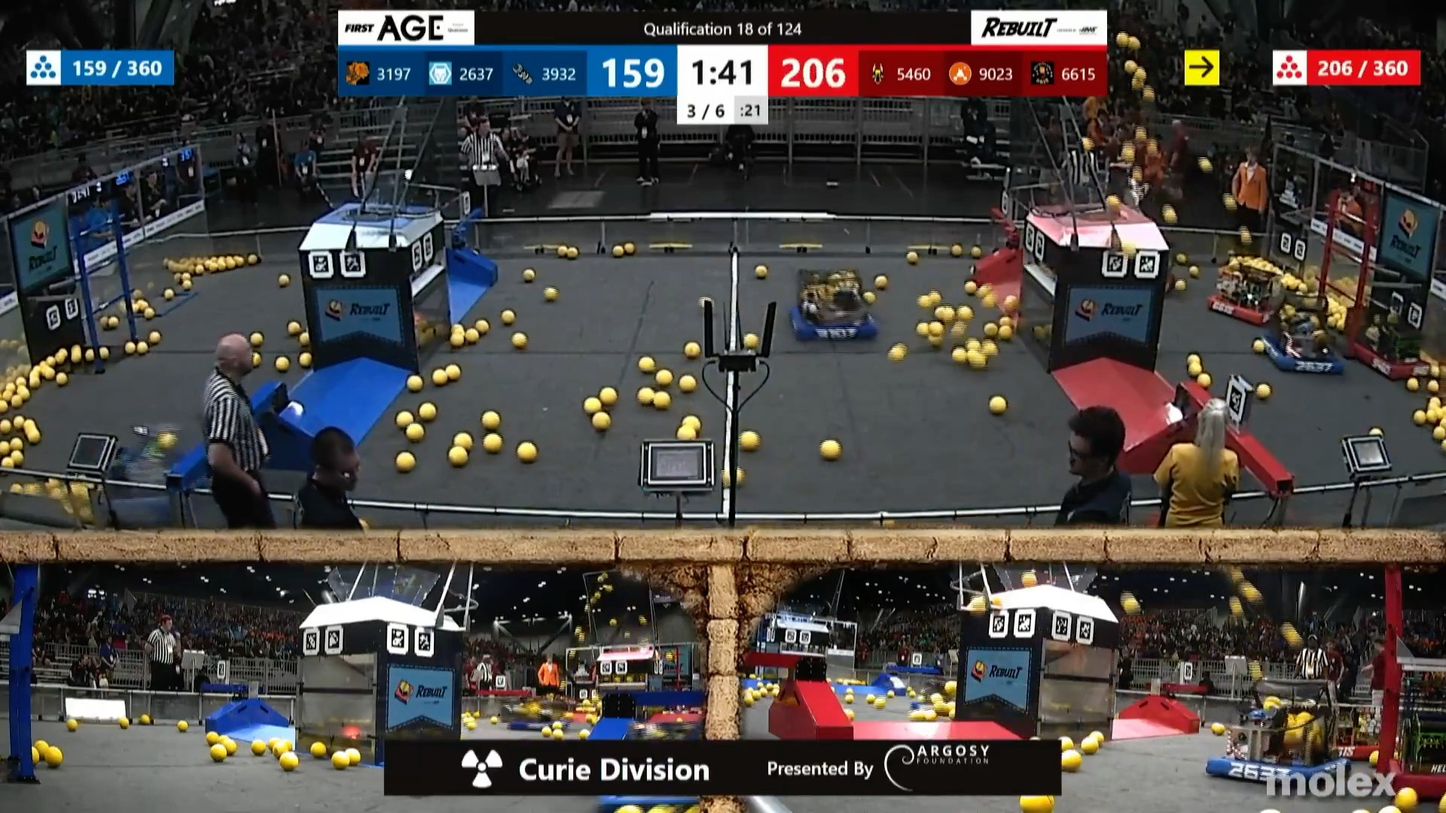bumpers: (786, 691, 1038, 744), (1206, 741, 1356, 793), (1334, 332, 1441, 384), (777, 301, 886, 349), (1196, 285, 1298, 329), (1252, 336, 1352, 379), (1375, 746, 1446, 805)
